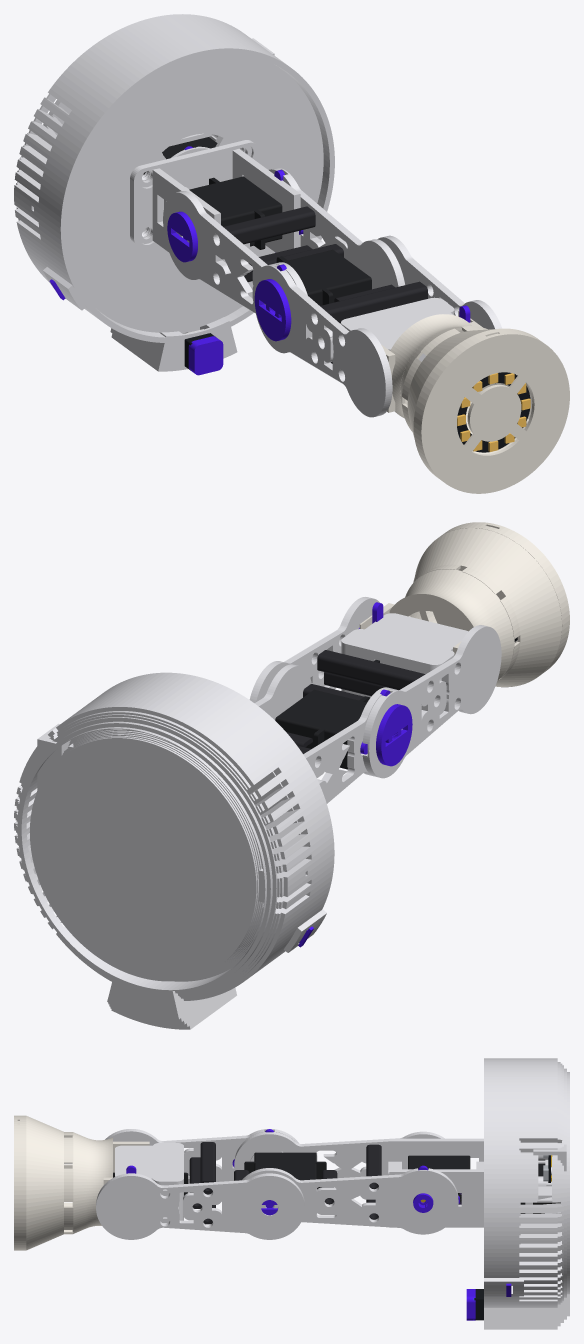
Rendered from hotaru2.glb.
The picture shows the model from 3 angles, top to bottom: view 1: azimuth 30°, elevation 25°; view 2: azimuth 150°, elevation 25°; view 3: azimuth 270°, elevation 25°; orthographic projection. The views are drawn at different scales.
Parts seen in each view (by area): view 1: v2-disc, v2-tub, v2-conecap, v2-link2-in, v2-tower, shade, v2-link1-out, v2-link1-in, sh-mg996r-body, el-mg996r-body, v2-head, v2-link1-spacers (+8 smaller); view 2: v2-tub, shade, v2-link2-in, v2-head, v2-link1-out, el-mg996r-body, v2-link2-spacers, v2-link2-out, v2-trimcap, v2-link1-in, v2-conecap; view 3: v2-tub, v2-link2-out, shade, v2-link1-in, v2-tower, v2-link1-out, v2-head, v2-link2-in, el-mg996r-body, v2-link2-spacers, sh-mg996r-body, v2-link1-spacers (+3 smaller).
Part boxes in pixels (x1,y1,x2,y2): v2-disc: (66,54,323,332); v2-tub: (14,14,334,371); v2-conecap: (419,332,569,493); v2-link2-in: (253,264,392,417); v2-tower: (130,140,300,252); shade: (381,310,539,478); v2-link1-out: (163,191,307,312); v2-link1-in: (269,168,404,289); sh-mg996r-body: (189,176,282,246); el-mg996r-body: (282,249,371,305); v2-head: (341,297,454,361); v2-link1-spacers: (223,206,315,281); v2-tub: (14,672,334,1029); shade: (359,524,567,687); v2-link2-in: (362,625,501,778); v2-head: (341,613,468,697); v2-link1-out: (303,687,392,803); el-mg996r-body: (275,689,366,769); v2-link2-spacers: (317,650,425,696); v2-link2-out: (249,597,379,702); v2-trimcap: (376,704,412,766); v2-link1-in: (254,664,311,720); v2-conecap: (422,522,569,669); v2-tub: (484,1058,569,1329); v2-link2-out: (96,1173,304,1239); shade: (17,1115,149,1250); v2-link1-in: (242,1168,458,1234); v2-tower: (388,1138,483,1227); v2-link1-out: (234,1131,444,1178); v2-head: (115,1143,183,1223); v2-link2-in: (105,1129,298,1183); el-mg996r-body: (254,1152,316,1180); v2-link2-spacers: (189,1142,215,1224); sh-mg996r-body: (408,1155,470,1204); v2-link1-spacers: (366,1144,381,1219).
Size of the model in its own units: 162 by 178 by 362.
